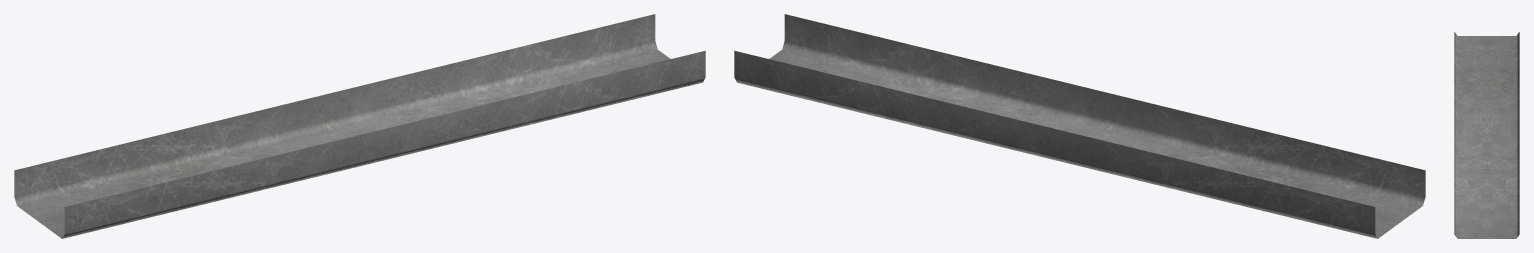
File: Psychiatric_Ward_Infirmary_Ceiling_Beam_4m.glb
3 renders of one model, left to right at view 1: azimuth 30°, elevation 25°; view 2: azimuth 150°, elevation 25°; view 3: azimuth 270°, elevation 25°, orthographic. The views are drawn at different scales.
Visible parts, largest first — view 1: Psychiatric_Ward_Infirmary_Ceiling_Beam_4m; view 2: Psychiatric_Ward_Infirmary_Ceiling_Beam_4m; view 3: Psychiatric_Ward_Infirmary_Ceiling_Beam_4m.
Boxes of the visible parts, x1,y1,x2,y2 form: Psychiatric_Ward_Infirmary_Ceiling_Beam_4m: [14, 14, 705, 238]; Psychiatric_Ward_Infirmary_Ceiling_Beam_4m: [734, 14, 1425, 238]; Psychiatric_Ward_Infirmary_Ceiling_Beam_4m: [1454, 32, 1519, 238].
Size of the model in its own units: 4 by 0.2012 by 0.5421.
1 material, 1 textured.
